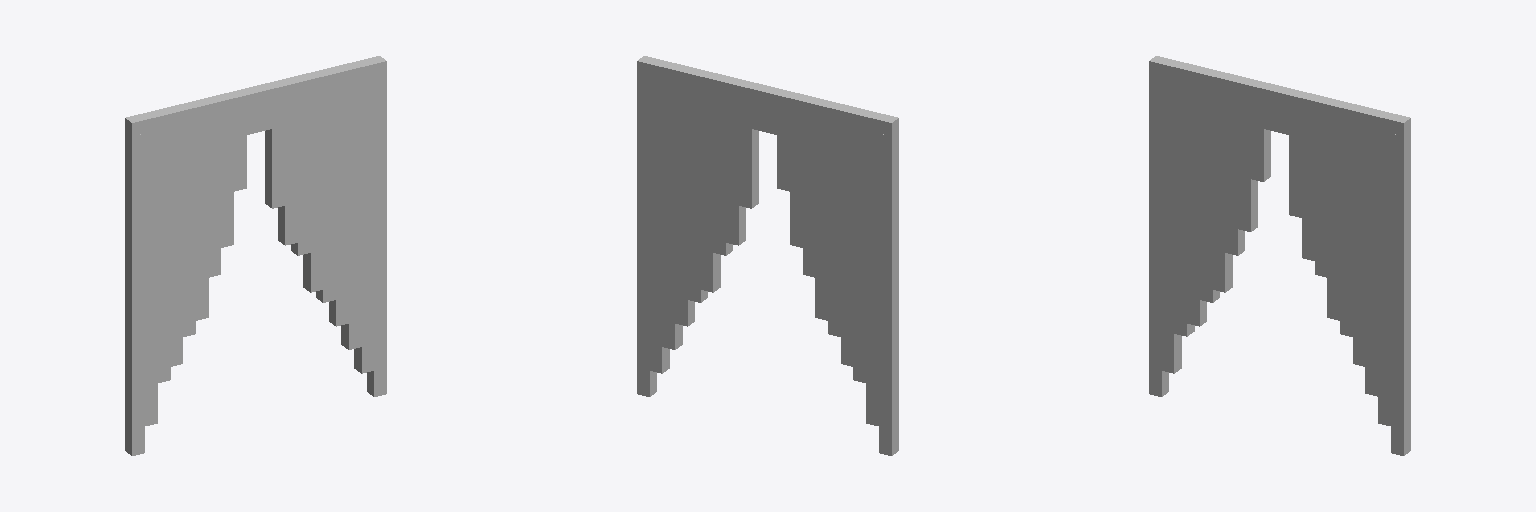
Rendered from Curtain2.obj.
The picture shows the model from 3 angles: view 1: azimuth 30°, elevation 25°; view 2: azimuth 150°, elevation 25°; view 3: azimuth 330°, elevation 25°; orthographic projection.
Visible parts, largest first — view 1: mergedBlocks; view 2: mergedBlocks; view 3: mergedBlocks.
Boxes of the visible parts, box(x1,y1,x2,y2) form: mergedBlocks: box(125, 56, 386, 455); mergedBlocks: box(637, 56, 898, 455); mergedBlocks: box(1149, 56, 1410, 455).
Size of the model in its own units: 2 by 2.5 by 0.1.